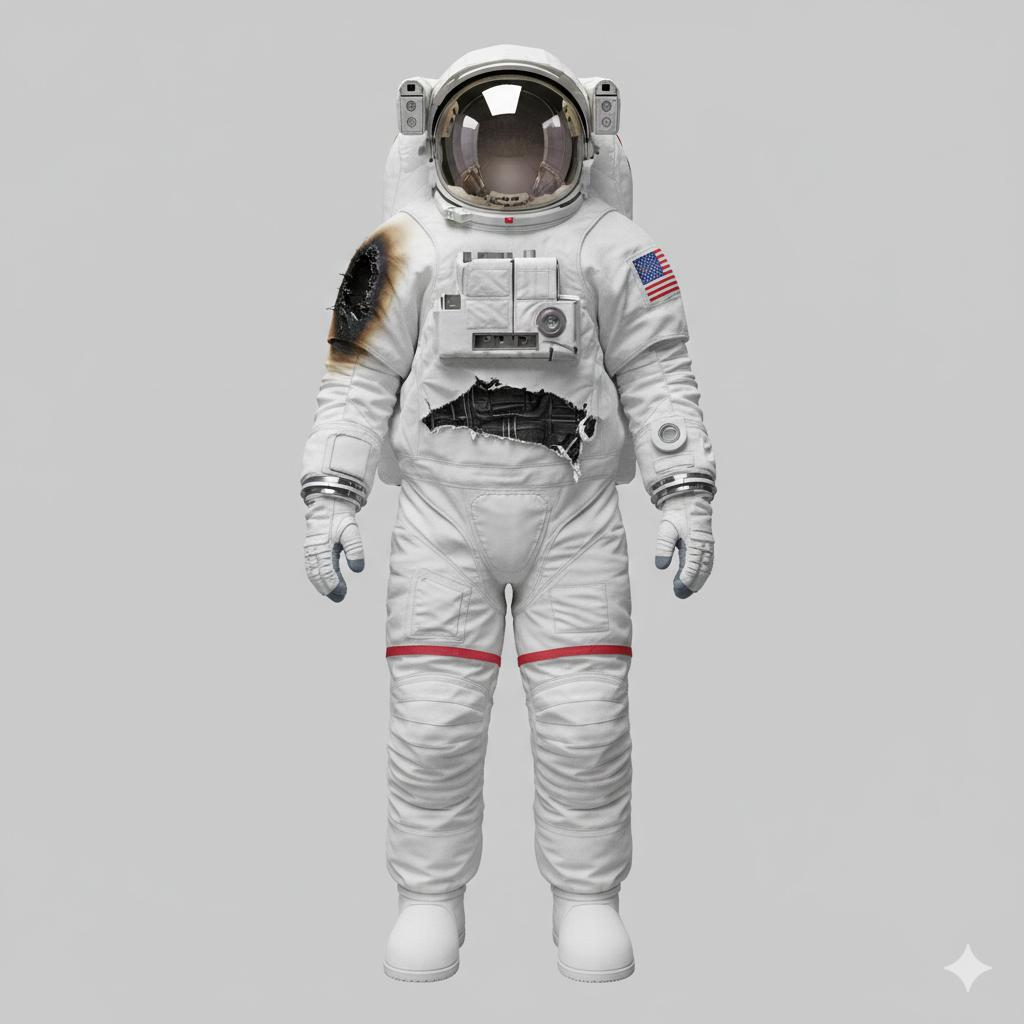burn: (308, 236, 416, 384)
tear: (423, 378, 613, 512)
